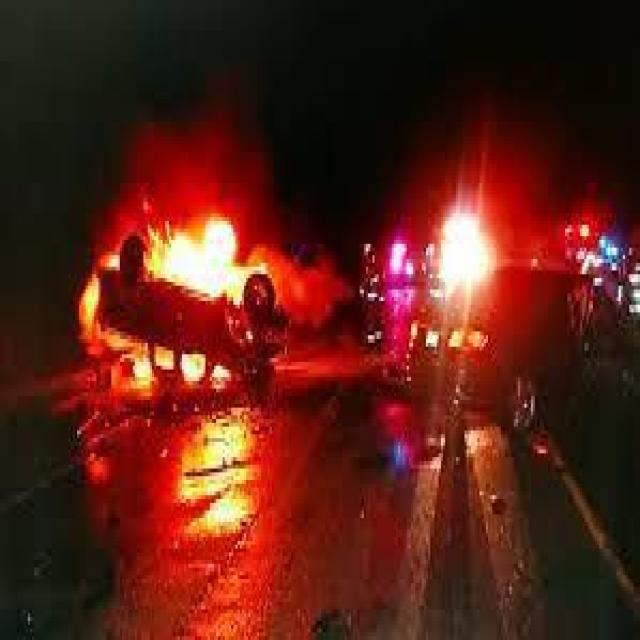fire: (84, 196, 282, 380), (440, 197, 496, 299)
